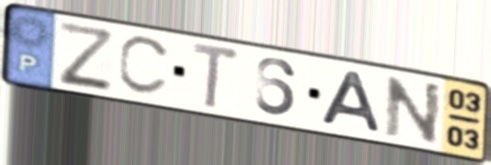6: (255, 56, 300, 119)
A: (317, 68, 384, 136)
C: (115, 35, 175, 99)
N: (383, 74, 445, 148)
T: (190, 39, 243, 112)
Z: (55, 18, 115, 91)
